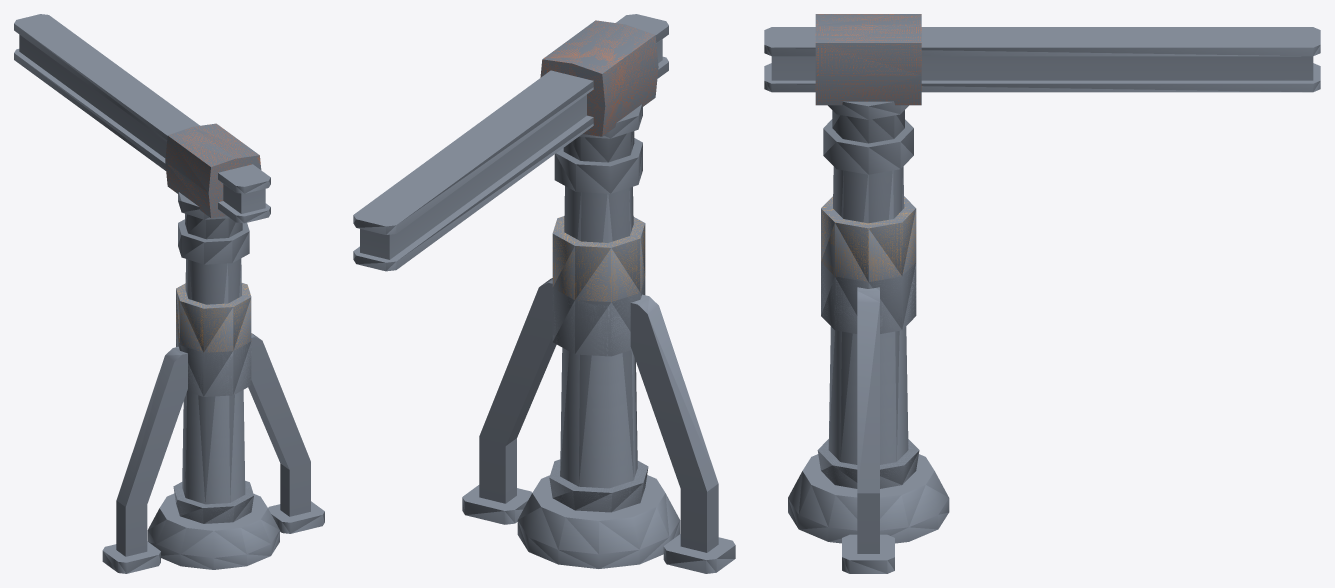
Rendered from factory_crane.fbx.
3 renders of one model, left to right at view 1: azimuth 30°, elevation 25°; view 2: azimuth 150°, elevation 25°; view 3: azimuth 270°, elevation 25°, orthographic. The views are drawn at different scales.
Parts seen in each view (by area): view 1: factory_crane_LOD0; view 2: factory_crane_LOD0; view 3: factory_crane_LOD0.
Boxes of the visible parts, x1,y1,x2,y2 form: factory_crane_LOD0: (14, 14, 324, 573); factory_crane_LOD0: (353, 14, 735, 573); factory_crane_LOD0: (764, 14, 1320, 573).
Size of what is drawn, in the model's own units: 2.71 by 5 by 5.18.
1 material, 1 textured.
